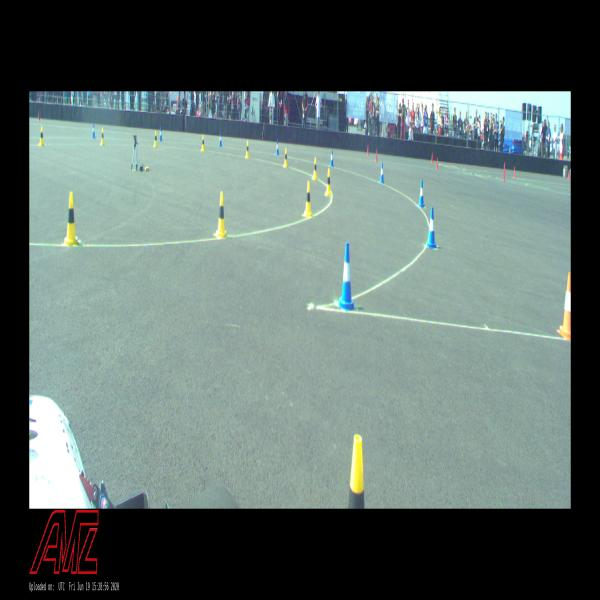blue_cone: (337, 243, 356, 311), (426, 208, 437, 248), (418, 180, 425, 206), (380, 162, 384, 184), (91, 123, 96, 139), (158, 127, 163, 142), (330, 150, 334, 167), (218, 132, 222, 147), (275, 140, 279, 155)
orange_cone: (556, 273, 570, 341)
yellow_cone: (348, 434, 365, 509), (63, 193, 79, 246), (214, 192, 227, 238), (303, 181, 313, 218), (325, 168, 332, 196), (311, 157, 318, 181), (38, 126, 45, 147), (282, 148, 288, 168), (99, 128, 105, 146), (153, 130, 158, 148), (245, 141, 250, 159), (201, 135, 205, 153)
